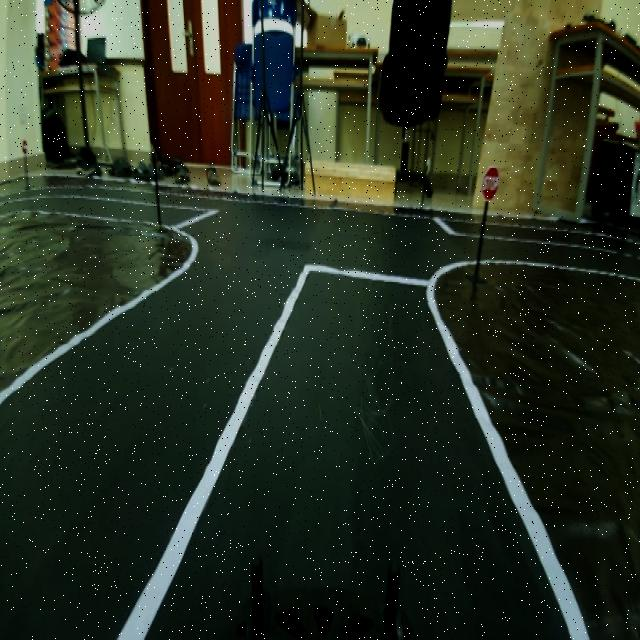stop: (480, 162, 500, 204)
